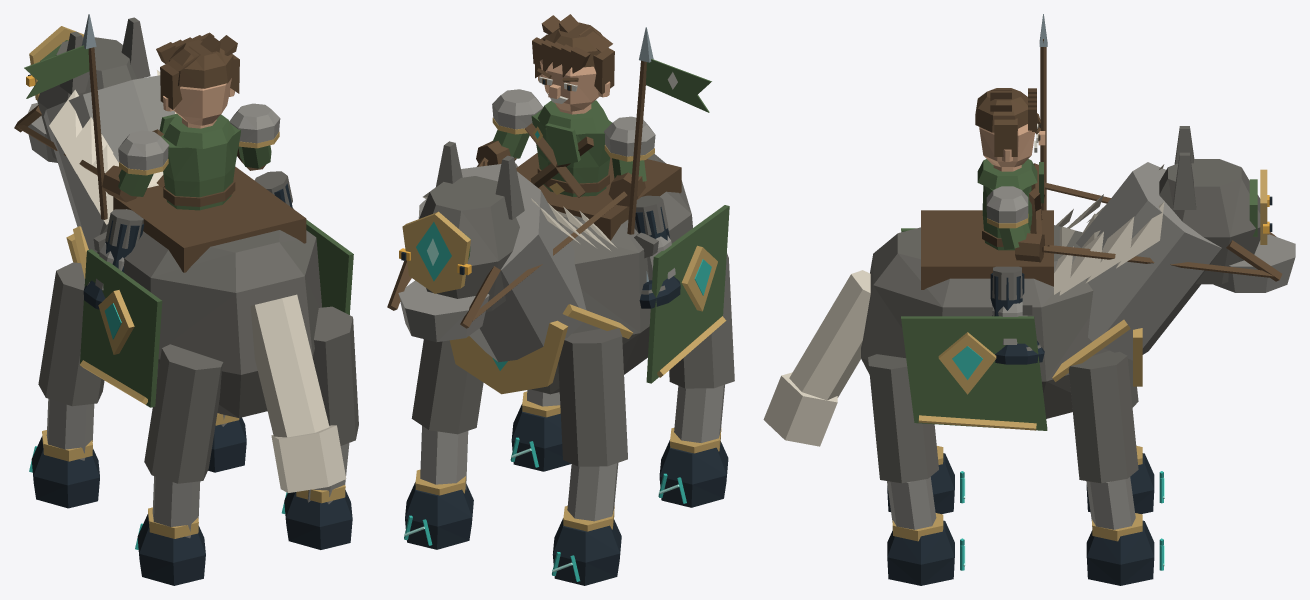
The model's file is Karst.fbx.
3 views of the same model, side by side, from view 1: azimuth 30°, elevation 25°; view 2: azimuth 150°, elevation 25°; view 3: azimuth 270°, elevation 25° (orthographic). The views are drawn at different scales.
Visible parts, largest first — view 1: Mount, MountLegBR, MountLegFR, MountLegBL, ArmR, Body, Head, LegR, ArmL, MountLegFL, LegL; view 2: Mount, MountLegFR, MountLegFL, MountLegBR, Body, Head, ArmR, MountLegBL, ArmL, LegR; view 3: Mount, MountLegFL, MountLegBL, Head, Body, ArmL, LegL, MountLegFR, MountLegBR, ArmR.
Boxes of the visible parts, box(x1,y1,x2,y2) form: Mount: box(14, 17, 353, 492); MountLegBR: box(135, 344, 223, 585); MountLegFR: box(29, 262, 104, 508); MountLegBL: box(281, 306, 358, 549); ArmR: box(24, 14, 169, 219); Body: box(152, 113, 240, 210); Head: box(156, 32, 239, 125); LegR: box(83, 209, 144, 309); ArmL: box(229, 103, 280, 170); MountLegFL: box(208, 413, 246, 472); LegL: box(254, 171, 293, 208); Mount: box(387, 141, 729, 394); MountLegFR: box(552, 328, 627, 585); MountLegFL: box(404, 339, 483, 549); MountLegBR: box(658, 253, 734, 507); Body: box(525, 100, 611, 197); Head: box(532, 14, 614, 111); ArmR: box(604, 27, 711, 234); MountLegBL: box(510, 389, 571, 471); ArmL: box(476, 89, 543, 166); LegR: box(634, 195, 680, 308); Mount: box(763, 126, 1295, 446); MountLegFL: box(1068, 350, 1164, 585); MountLegBL: box(868, 354, 965, 585); Head: box(975, 88, 1045, 167); Body: box(977, 159, 1043, 250); ArmL: box(986, 186, 1090, 262); LegL: box(990, 266, 1044, 364); MountLegFR: box(1086, 358, 1164, 514); MountLegBR: box(887, 446, 965, 514); ArmR: box(1039, 14, 1047, 210).
Size of the model in its own units: 0.7 by 1.3 by 1.3.
Materials: 1 (1 with a texture image).
